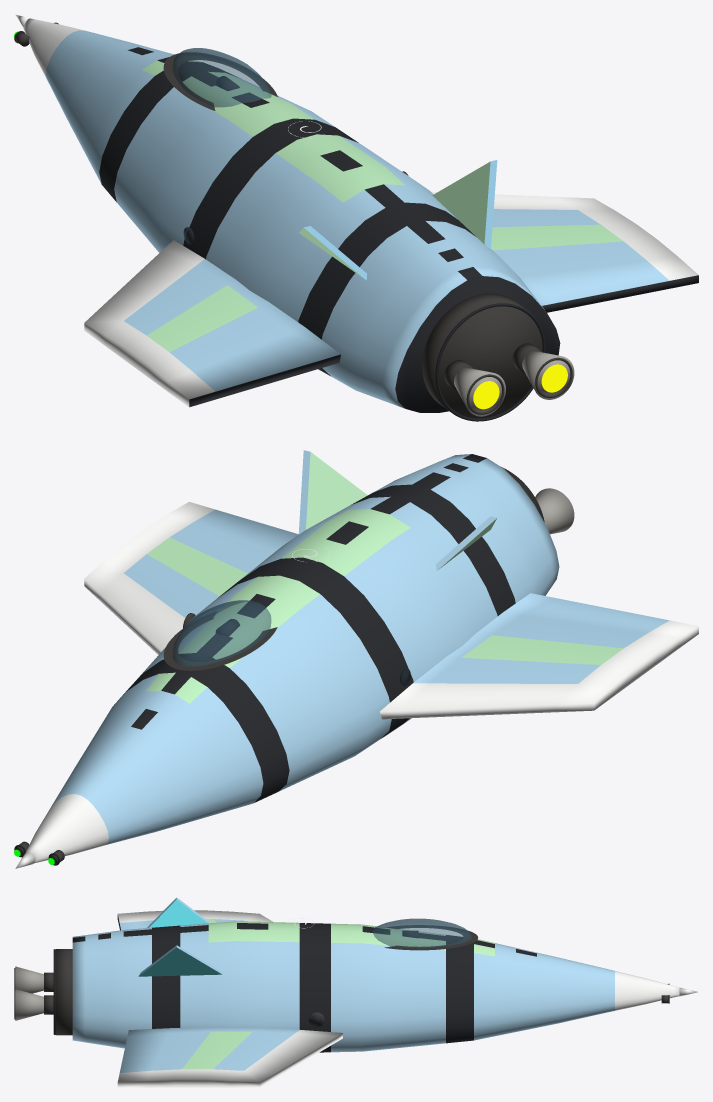
File: Ship_Standard_2.glb
The picture shows the model from 3 angles, top to bottom: view 1: azimuth 30°, elevation 25°; view 2: azimuth 150°, elevation 25°; view 3: azimuth 270°, elevation 25°; orthographic projection. The views are drawn at different scales.
Parts seen in each view (by area): view 1: Fuselage_RoundedSectionPaintedMesh, Wing_Left_EmbeddedPaintShoulderPlane, Wing_Right_EmbeddedPaintShoulderPlane, EngineBlock_AftSectionMountPlate, Nose_FacetedTaperPaintedMesh, CanopyGlass_LowDorsalDome, TailFin_Right_CantedStabilizerPaintedMesh, CanopyFrame_LowDorsalRim, EngineEmitter, EngineBell_Right_BurnishedNozzle, EngineBell_Left_BurnishedNozzle, EngineBlock_AftDarkTrimRing (+1 smaller); view 2: Fuselage_RoundedSectionPaintedMesh, Wing_Left_EmbeddedPaintShoulderPlane, Wing_Right_EmbeddedPaintShoulderPlane, Nose_FacetedTaperPaintedMesh, CanopyGlass_LowDorsalDome, TailFin_Right_CantedStabilizerPaintedMesh, CanopyFrame_LowDorsalRim, EngineBell_Left_BurnishedNozzle, TailFin_Left_CantedStabilizerPaintedMesh; view 3: Fuselage_RoundedSectionPaintedMesh, Wing_Right_EmbeddedPaintShoulderPlane, Nose_FacetedTaperPaintedMesh, CanopyGlass_LowDorsalDome, EngineBlock_AftSectionMountPlate, TailFin_Right_CantedStabilizerPaintedMesh, Wing_Left_EmbeddedPaintShoulderPlane, TailFin_Left_CantedStabilizerPaintedMesh, CanopyFrame_LowDorsalRim, EngineBell_Right_BurnishedNozzle, EngineBell_Left_BurnishedNozzle.
Boxes of the visible parts, x1,y1,x2,y2 form: Fuselage_RoundedSectionPaintedMesh: (67,42,560,412); Wing_Left_EmbeddedPaintShoulderPlane: (84,240,340,407); Wing_Right_EmbeddedPaintShoulderPlane: (431,191,698,312); EngineBlock_AftSectionMountPlate: (422,293,542,418); Nose_FacetedTaperPaintedMesh: (23,18,131,120); CanopyGlass_LowDorsalDome: (172,48,271,107); TailFin_Right_CantedStabilizerPaintedMesh: (432,160,497,248); CanopyFrame_LowDorsalRim: (163,52,277,110); EngineEmitter: (473,364,567,409); EngineBell_Right_BurnishedNozzle: (522,351,574,399); EngineBell_Left_BurnishedNozzle: (454,368,505,416); EngineBlock_AftDarkTrimRing: (435,303,545,421); Fuselage_RoundedSectionPaintedMesh: (76,454,559,828); Wing_Left_EmbeddedPaintShoulderPlane: (380,593,698,719); Wing_Right_EmbeddedPaintShoulderPlane: (84,501,298,654); Nose_FacetedTaperPaintedMesh: (26,744,171,863); CanopyGlass_LowDorsalDome: (172,600,271,666); TailFin_Right_CantedStabilizerPaintedMesh: (298,450,367,534); CanopyFrame_LowDorsalRim: (163,612,277,670); EngineBell_Left_BurnishedNozzle: (535,488,574,534); TailFin_Left_CantedStabilizerPaintedMesh: (436,516,496,570); Fuselage_RoundedSectionPaintedMesh: (72,921,558,1052); Wing_Right_EmbeddedPaintShoulderPlane: (117,1027,343,1087); Nose_FacetedTaperPaintedMesh: (558,957,679,1023); CanopyGlass_LowDorsalDome: (372,918,471,948); EngineBlock_AftSectionMountPlate: (55,949,72,1035); TailFin_Right_CantedStabilizerPaintedMesh: (138,945,222,976); Wing_Left_EmbeddedPaintShoulderPlane: (117,910,273,930); TailFin_Left_CantedStabilizerPaintedMesh: (147,897,210,927); CanopyFrame_LowDorsalRim: (384,925,478,950); EngineBell_Right_BurnishedNozzle: (15,989,43,1020); EngineBell_Left_BurnishedNozzle: (15,966,43,993).
Bounding box in the file's own units: 4.41 × 1.48 × 7.57.
